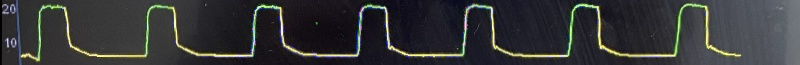normal_pressure: (25, 0, 748, 65)
